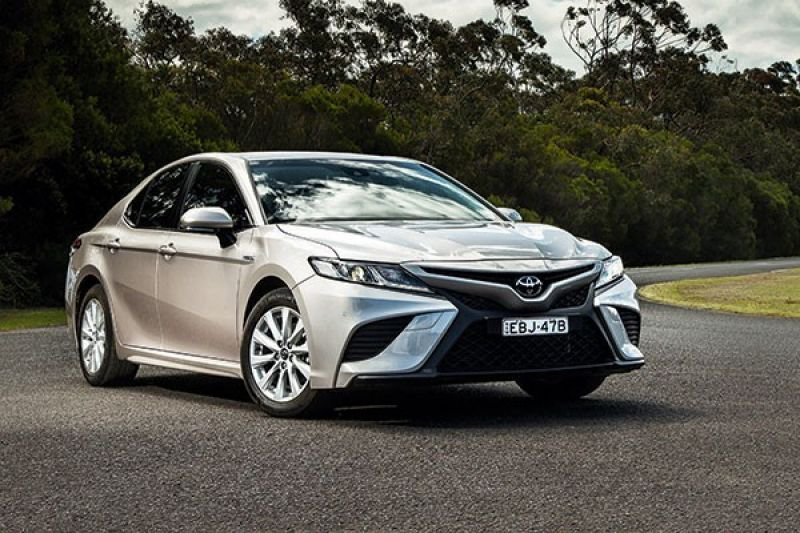car: (63, 148, 644, 408)
